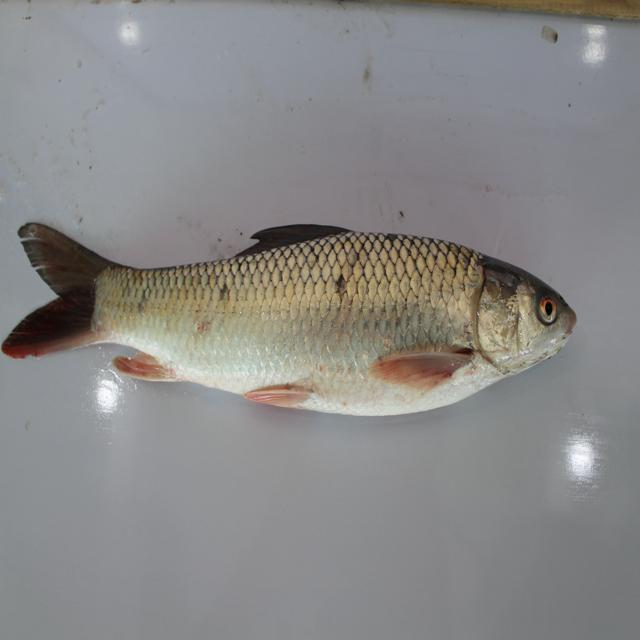Mori: (4, 206, 580, 435)
